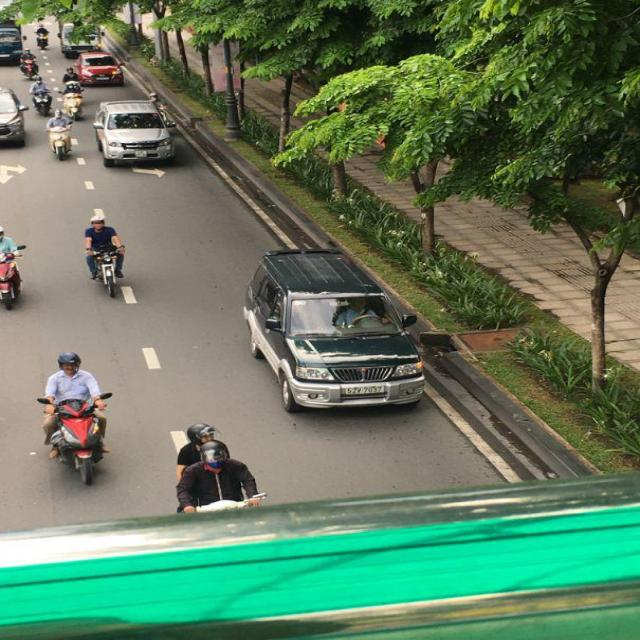car: (243, 248, 429, 411), (94, 101, 177, 169), (0, 84, 28, 152), (77, 51, 126, 85)
motorcycle: (45, 394, 114, 483), (86, 238, 126, 298), (48, 115, 76, 162), (1, 256, 24, 308), (31, 82, 52, 116)
